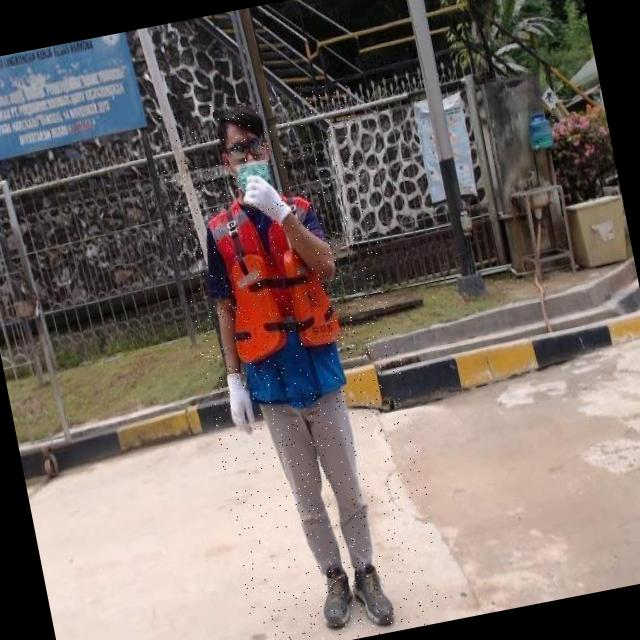boots: (344, 558, 402, 636), (314, 558, 362, 633)
gloves: (226, 163, 327, 264), (220, 354, 282, 440)
no-helmet: (214, 101, 288, 215)
vest: (201, 184, 360, 422)
